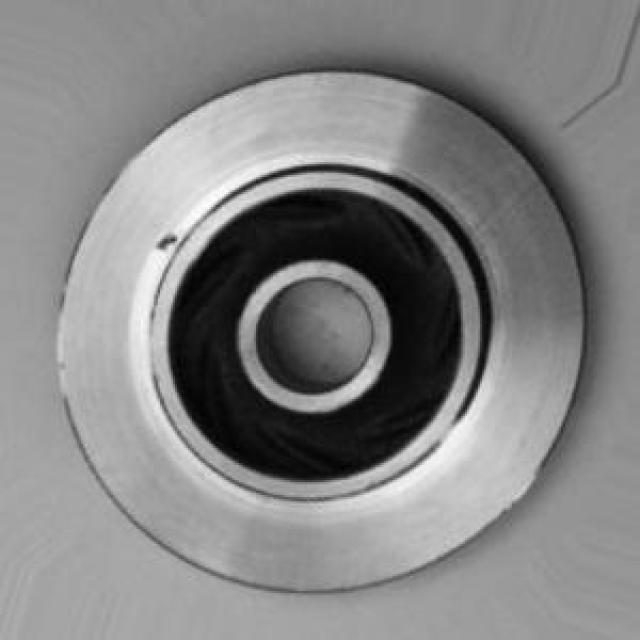Defect: (156, 227, 185, 259)
